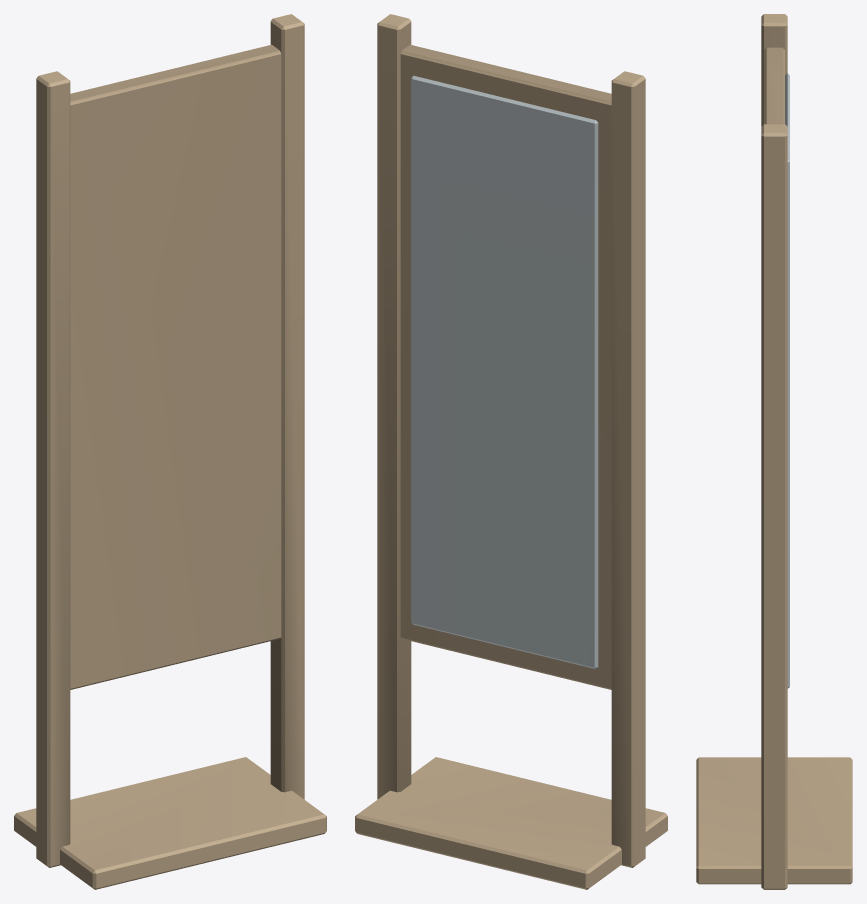
Rendered from furn_mirror_stand__oak.glb.
The picture shows the model from 3 angles, left to right: view 1: azimuth 30°, elevation 25°; view 2: azimuth 150°, elevation 25°; view 3: azimuth 270°, elevation 25°; orthographic projection. The views are drawn at different scales.
Size of the model in its own units: 0.55 by 1.6 by 0.3.
